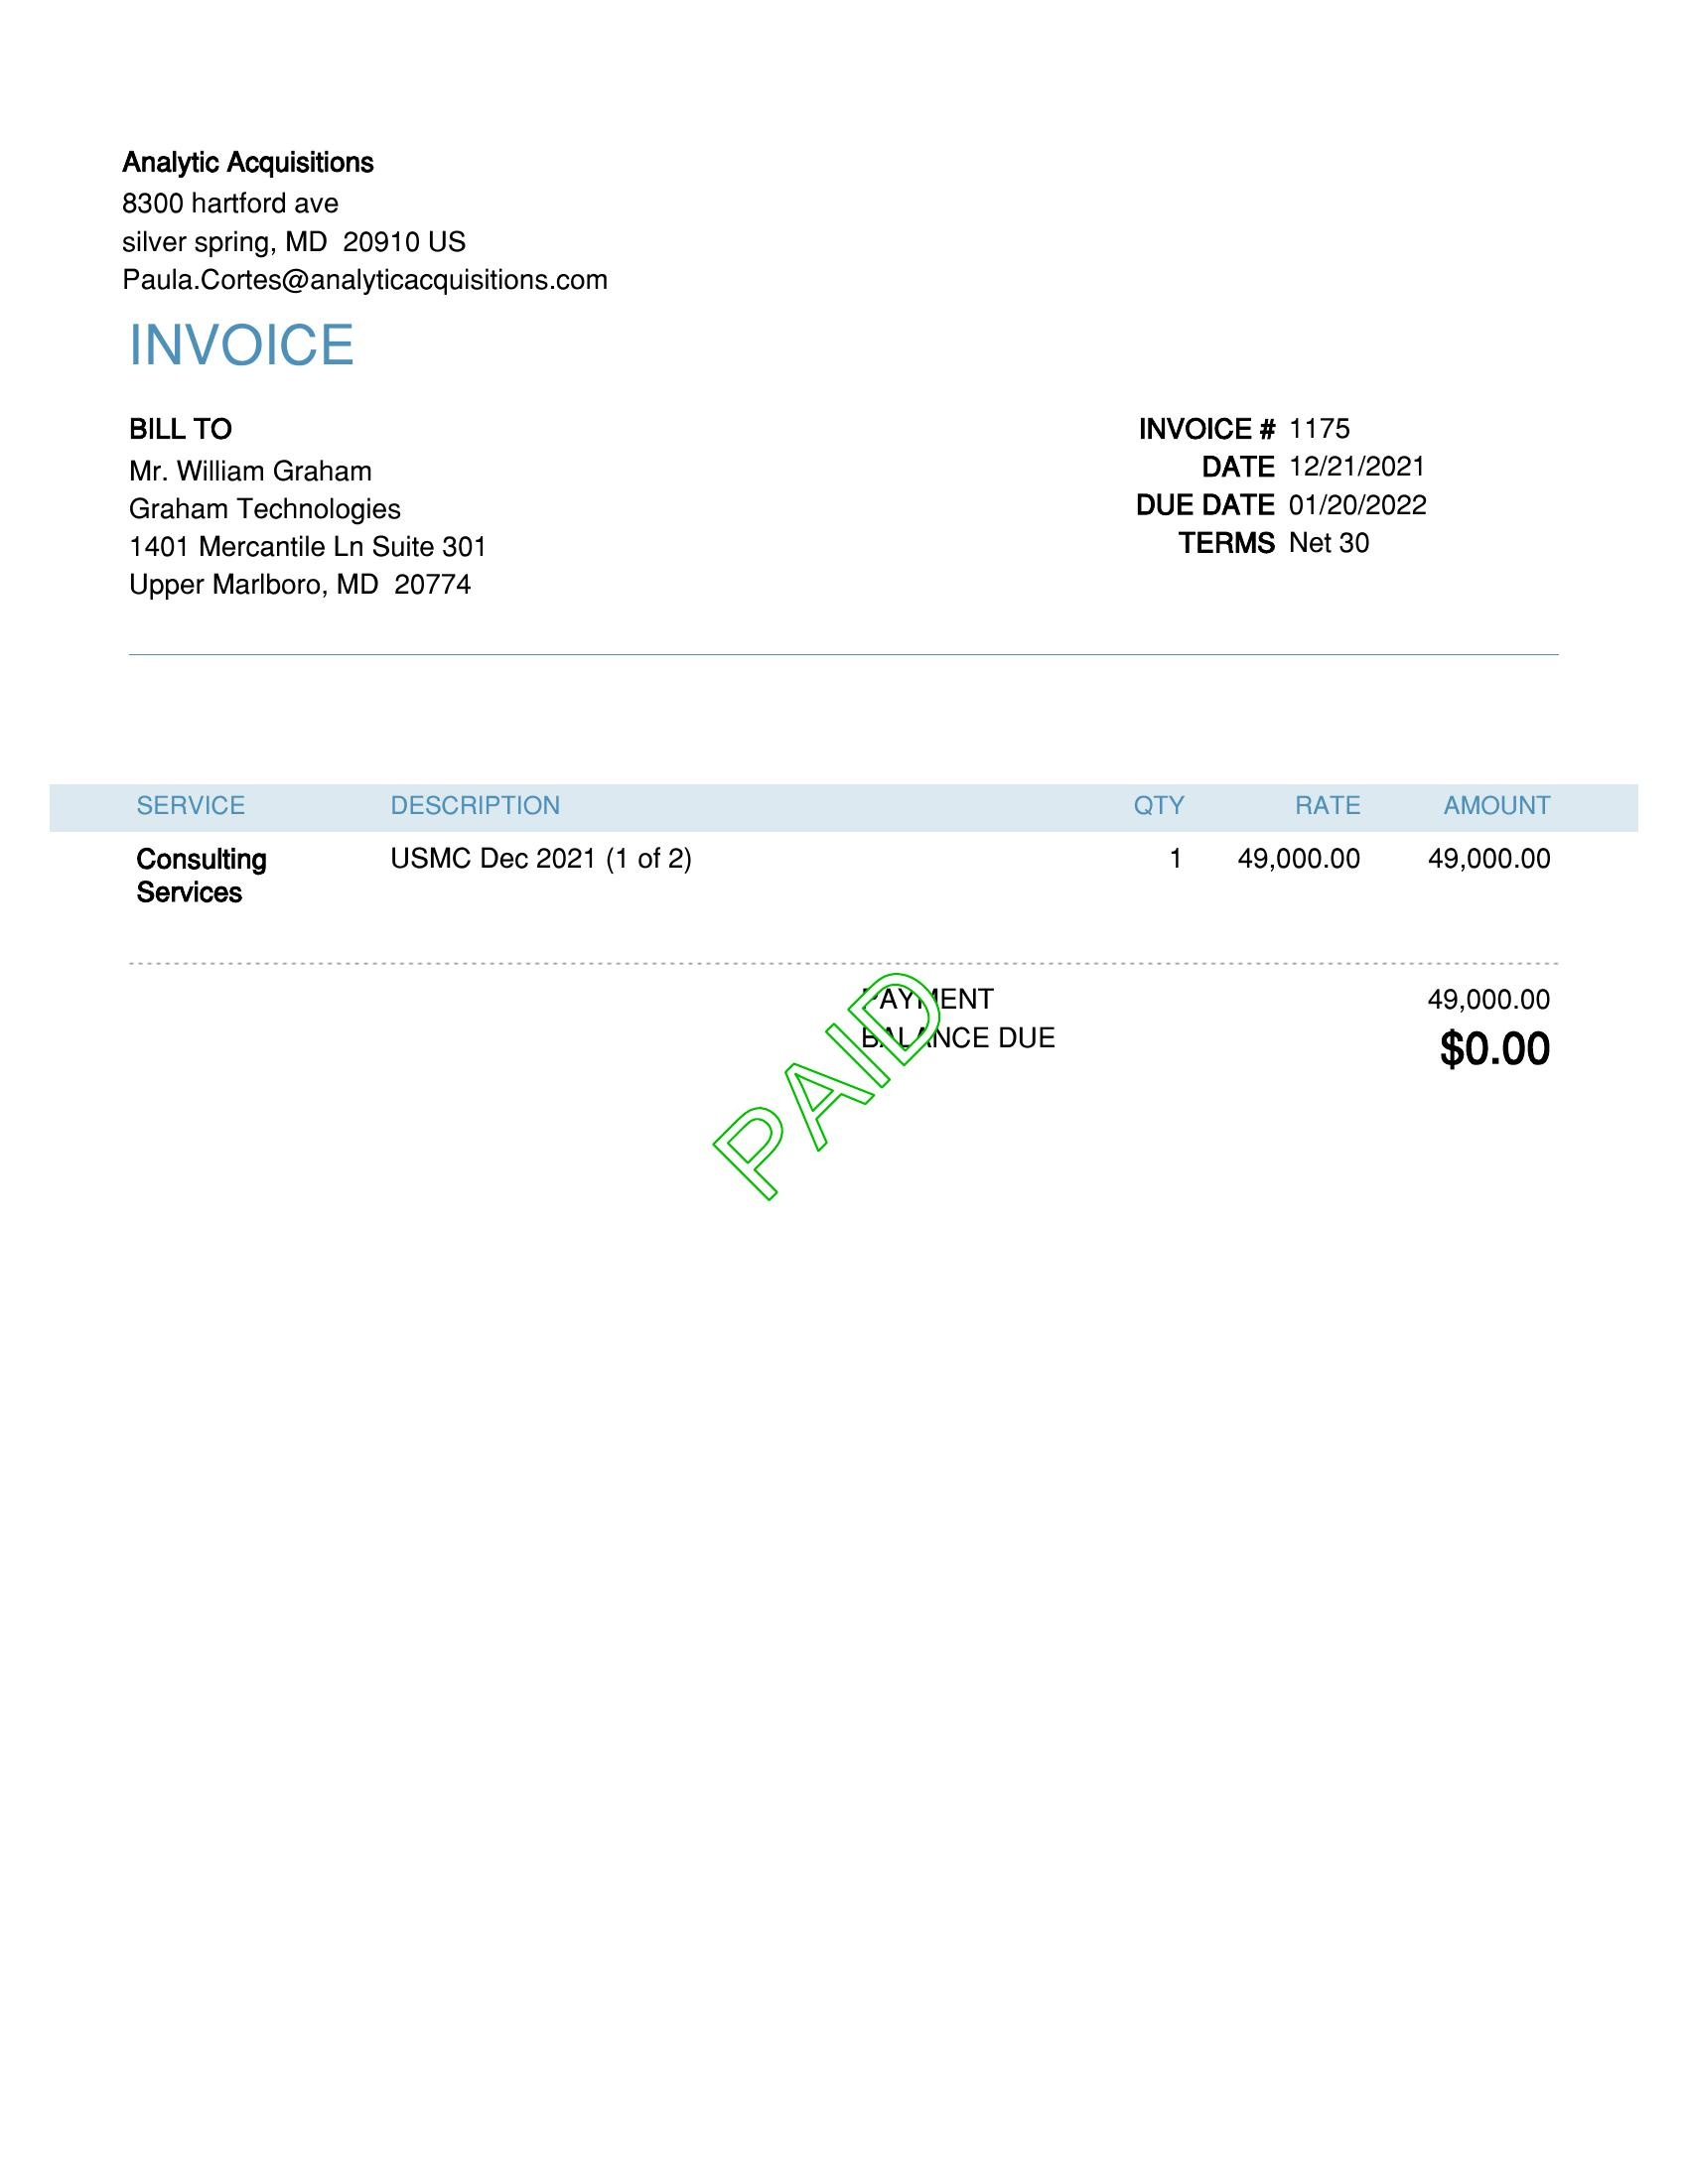table: (76, 764, 1569, 918)
